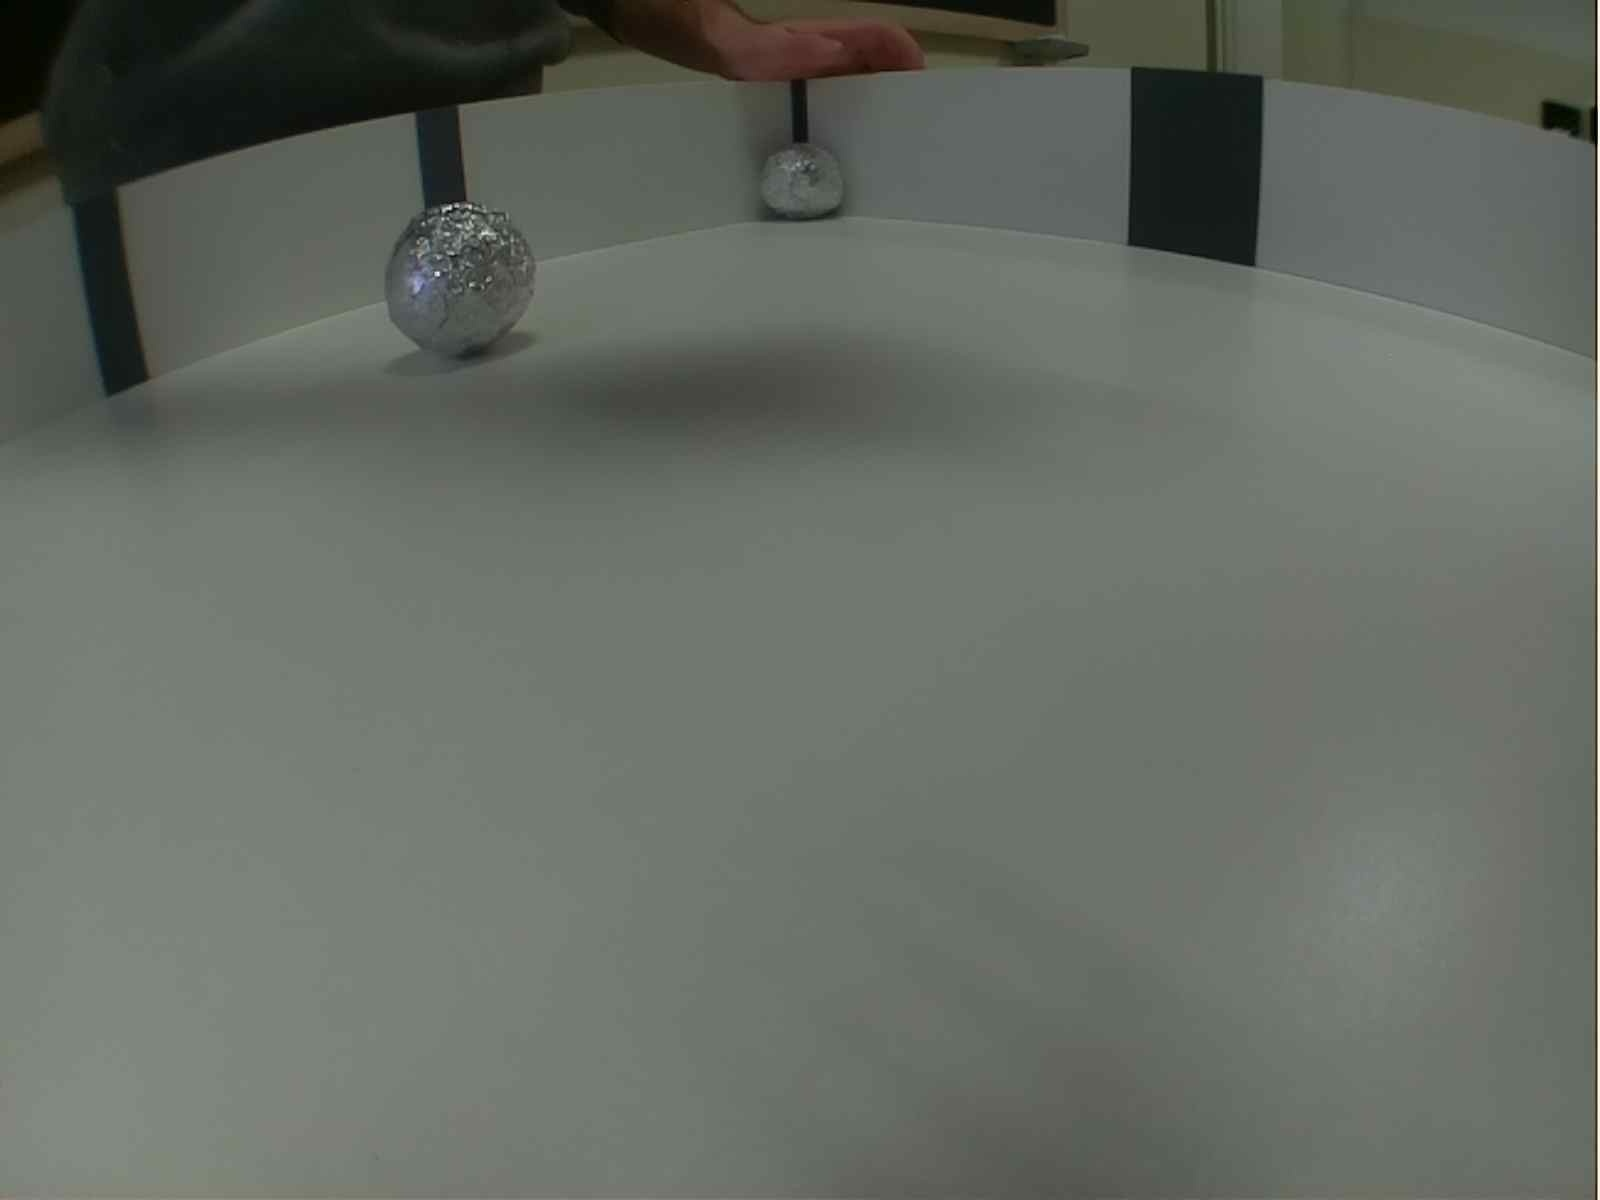bianca: (372, 200, 547, 362), (751, 141, 850, 227)
